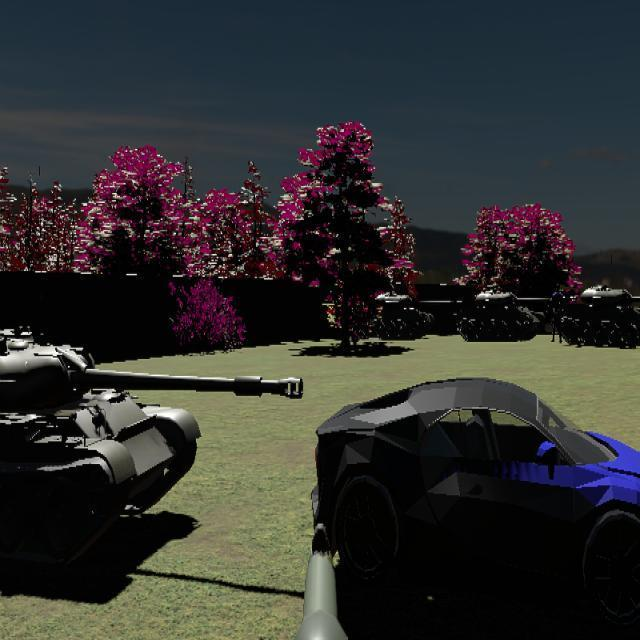Tank: (0, 317, 304, 569), (458, 288, 576, 343), (558, 283, 640, 349)
car: (311, 375, 640, 632)
